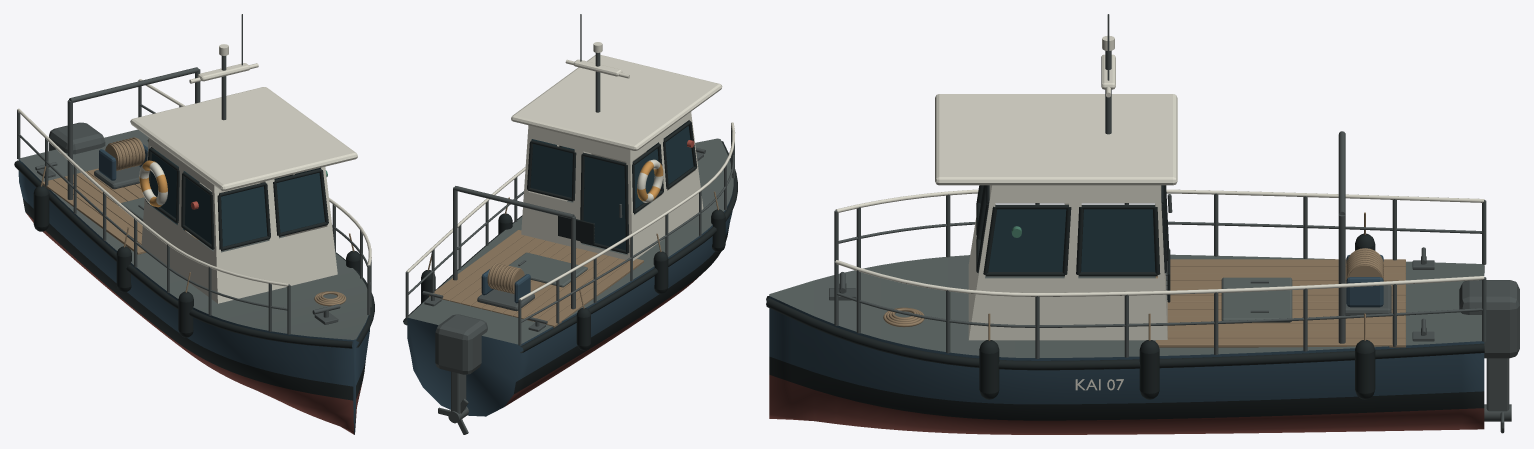
Rendered from fishing_boat.glb.
3 views of the same model, side by side, from view 1: azimuth 30°, elevation 25°; view 2: azimuth 150°, elevation 25°; view 3: azimuth 270°, elevation 25° (orthographic). The views are drawn at different scales.
Visible parts, largest first — view 1: SM_fishing_boat; view 2: SM_fishing_boat; view 3: SM_fishing_boat.
Boxes of the visible parts, box(x1,y1,x2,y2) form: SM_fishing_boat: box(14, 14, 374, 434); SM_fishing_boat: box(403, 14, 737, 434); SM_fishing_boat: box(766, 14, 1519, 434).
Size of the model in its own units: 2.96 by 5.24 by 8.23.
